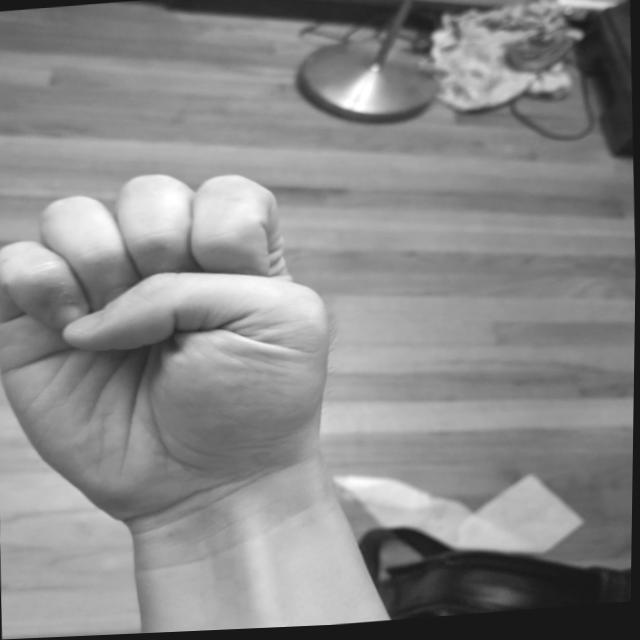E: (0, 156, 347, 549)
